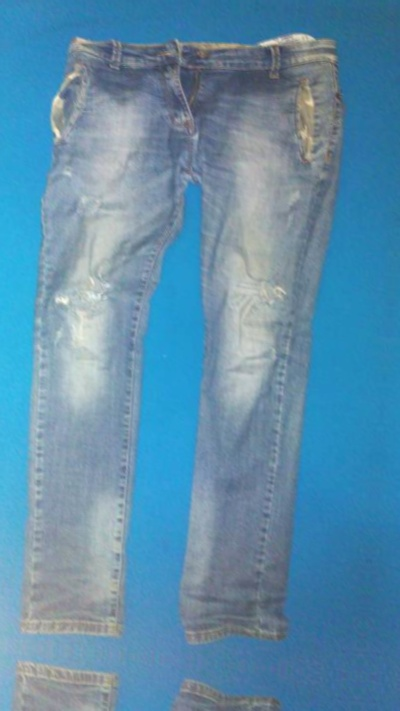Pants: (0, 4, 381, 656), (0, 662, 324, 711), (394, 40, 400, 692), (337, 698, 400, 711)
